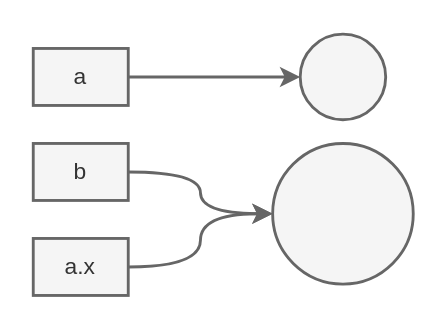
Image size: 448x329. Some labels were removed from this diagram. The shapes that lost their labels are listed below. From the top down, each one's box as (x1, y1, x2, y2) in pixels, then its label:
(298, 32, 386, 120): l:2
(270, 141, 414, 285): n: 2 x:undefined
